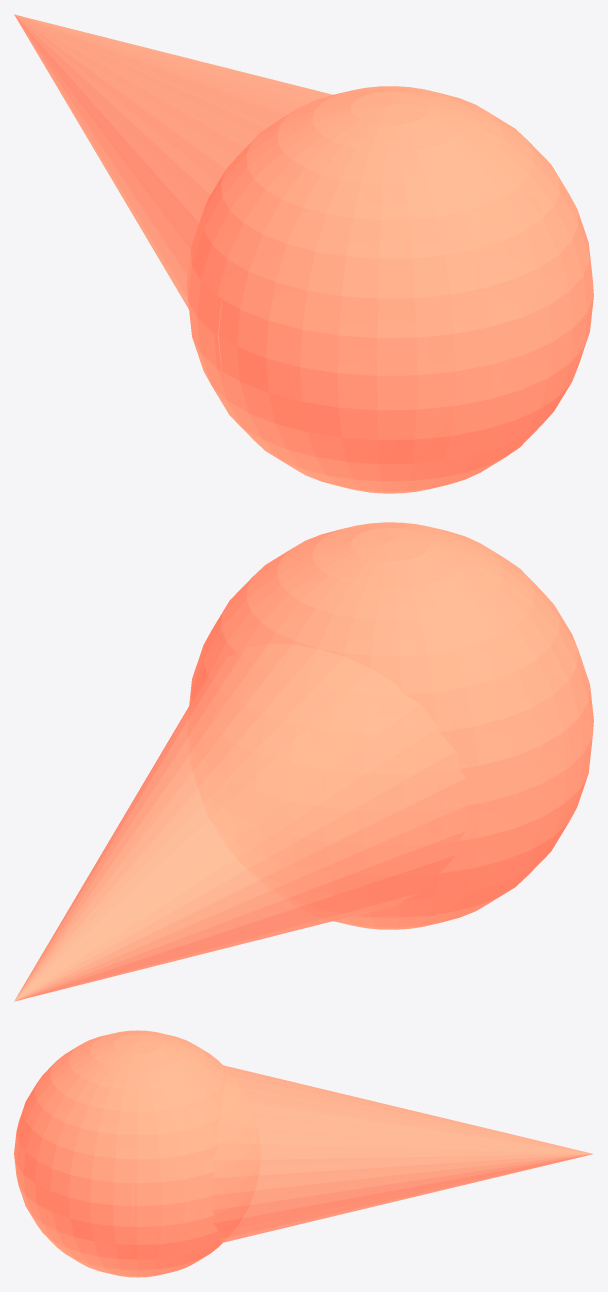
File: fire.glb
3 renders of one model, top to bottom at view 1: azimuth 30°, elevation 25°; view 2: azimuth 150°, elevation 25°; view 3: azimuth 270°, elevation 25°, orthographic. The views are drawn at different scales.
Parts seen in each view (by area): view 1: Cone, Sphere; view 2: Cone, Sphere; view 3: Cone, Sphere.
Boxes of the visible parts, <box> form: Cone: <box>14,14,593,493</box>; Sphere: <box>187,86,593,493</box>; Cone: <box>14,522,593,1001</box>; Sphere: <box>189,523,593,929</box>; Cone: <box>14,1030,592,1276</box>; Sphere: <box>14,1031,260,1277</box>.
Bounding box in the file's own units: 2 × 2 × 4.69.
